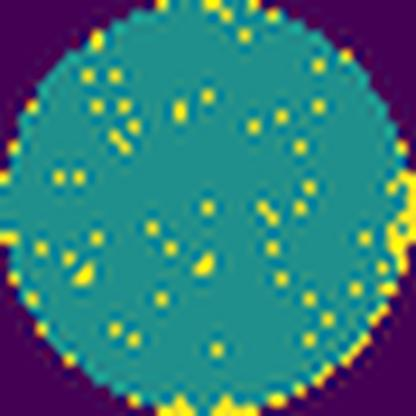Edge-Loc: (383, 158, 415, 274), (157, 387, 261, 416)
